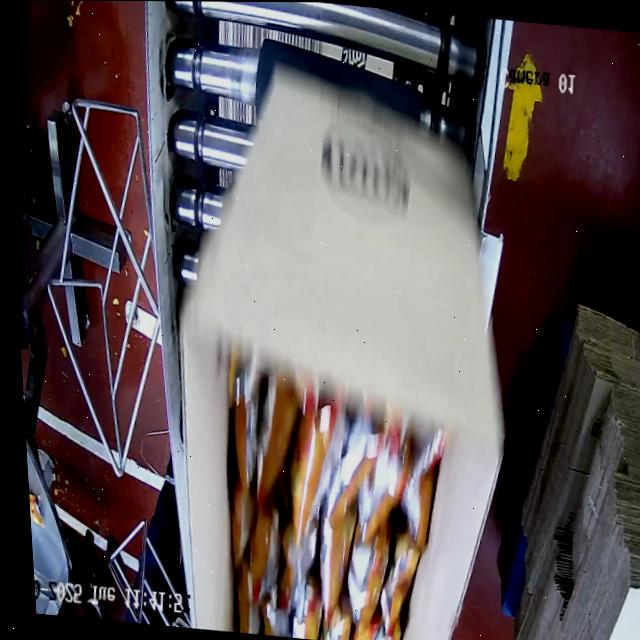FRENCH_CHEESE: (200, 354, 440, 640)
